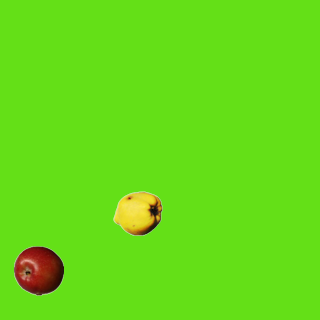Apple Braeburn: (13, 245, 63, 295)
Quince: (112, 188, 162, 238)
